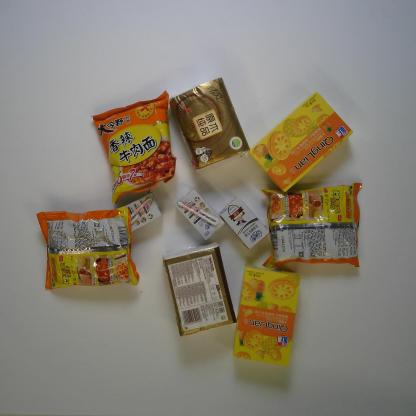Dessert: (247, 89, 354, 194), (233, 264, 302, 368)
Instant Noodles: (89, 91, 178, 205), (260, 180, 364, 270), (35, 206, 140, 291)
Milk: (218, 196, 271, 251), (173, 188, 225, 242), (125, 192, 163, 233)
Tissue: (169, 75, 250, 173), (160, 243, 239, 337)
